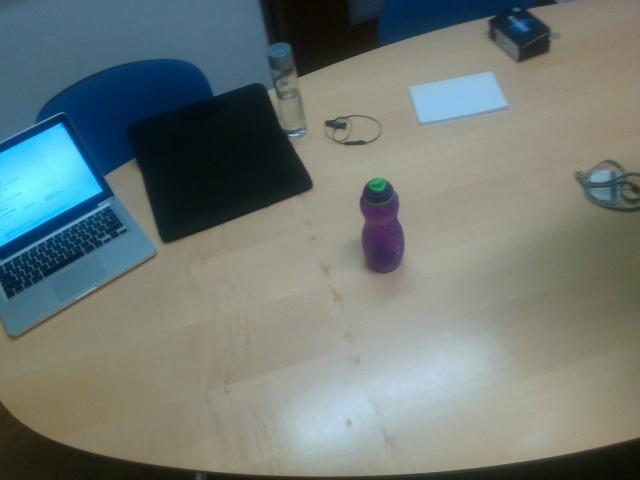bottle: (360, 178, 405, 272)
